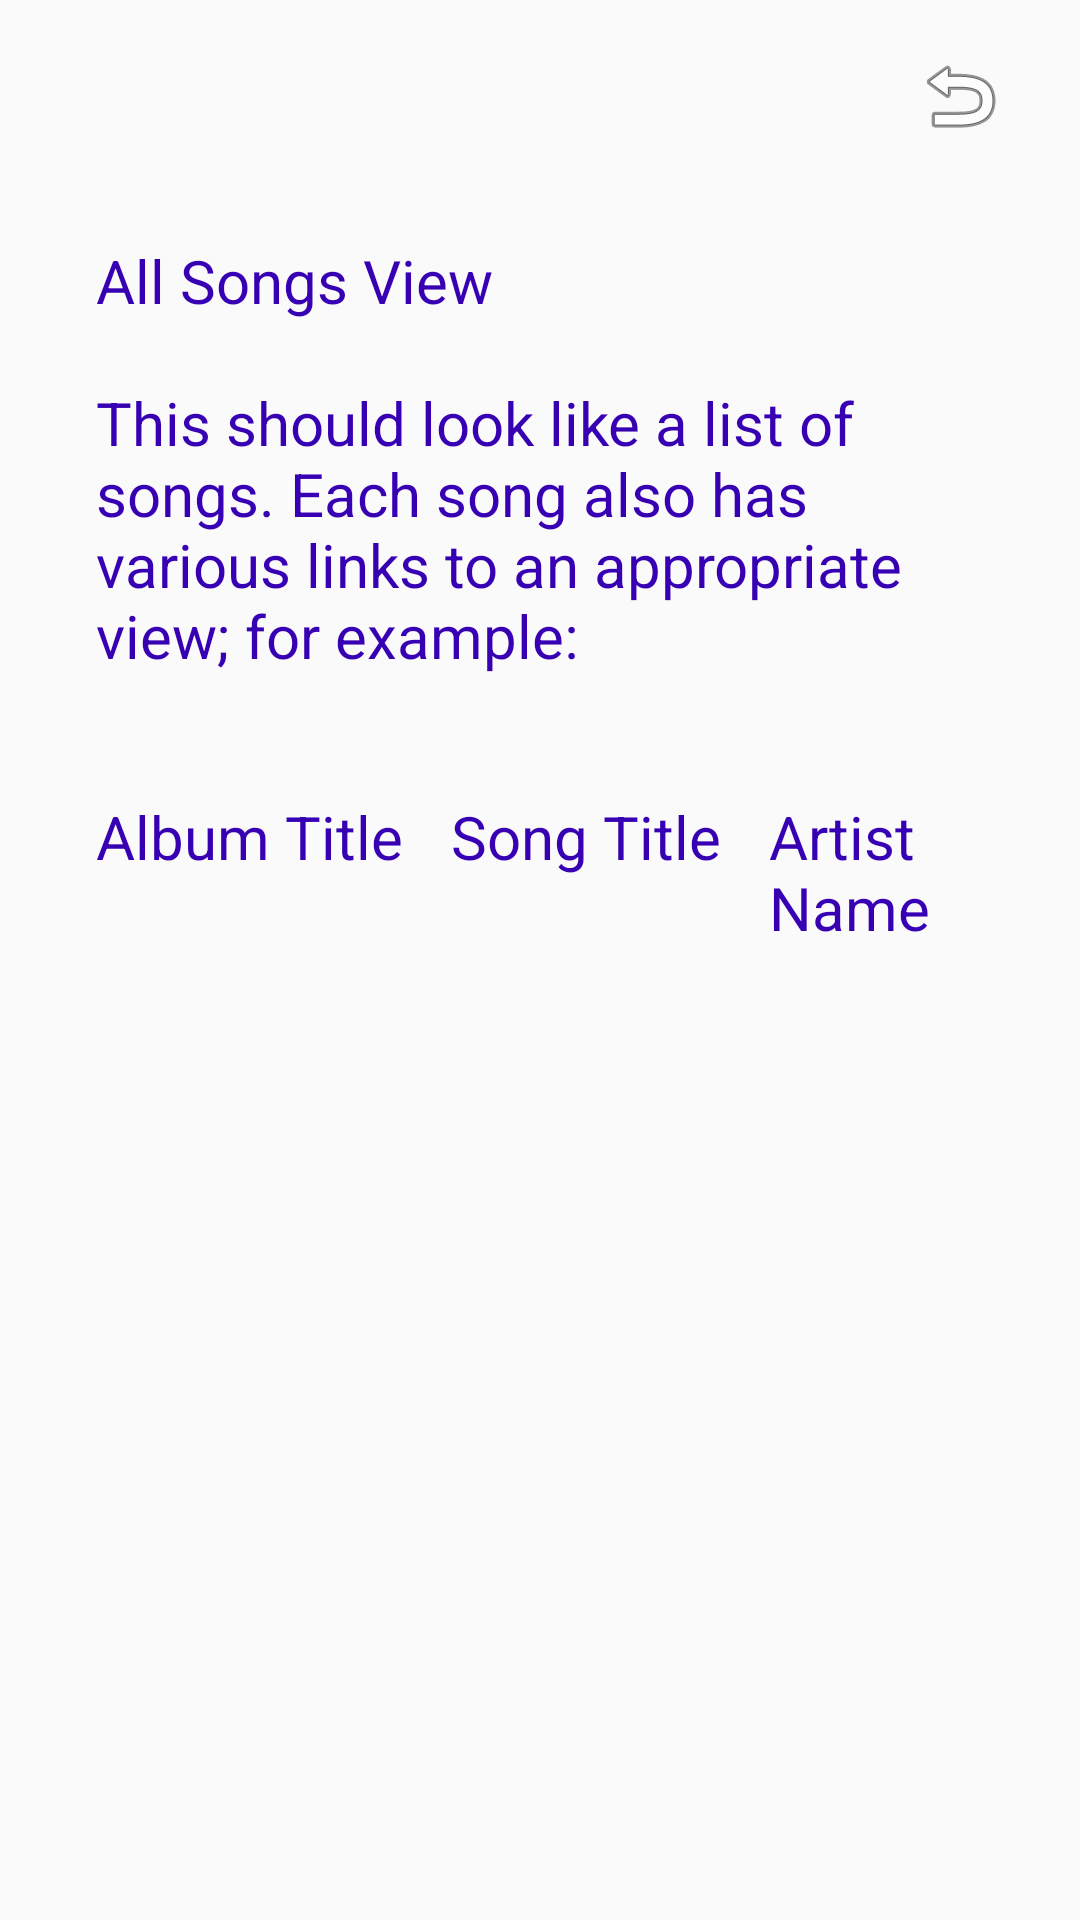

Point at icon controls on the screen. Image size 1080×1920, points as (x=x, y=y).
revert: (x=961, y=96)
